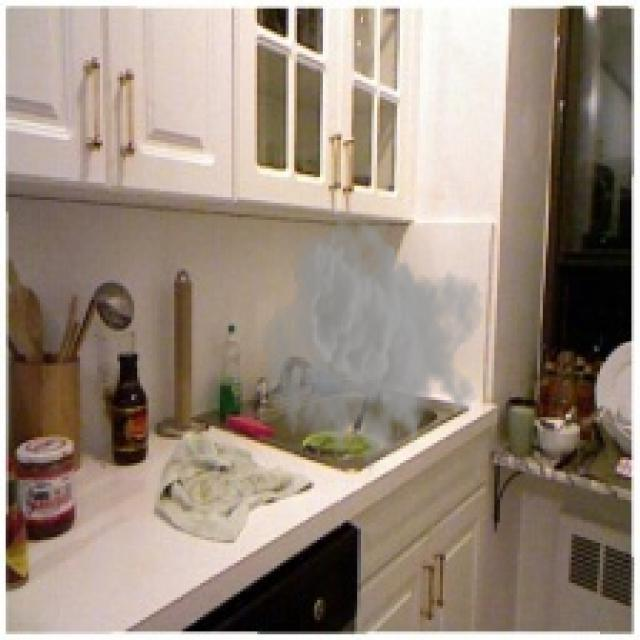Smoke: (260, 206, 486, 483)
